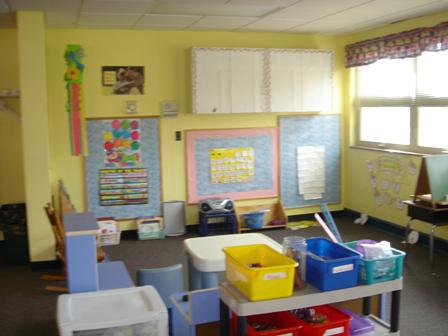Otro Obstaculo: (195, 198, 241, 234), (235, 203, 290, 231), (138, 218, 165, 241), (102, 218, 123, 245)
Ventana: (350, 49, 447, 155)
